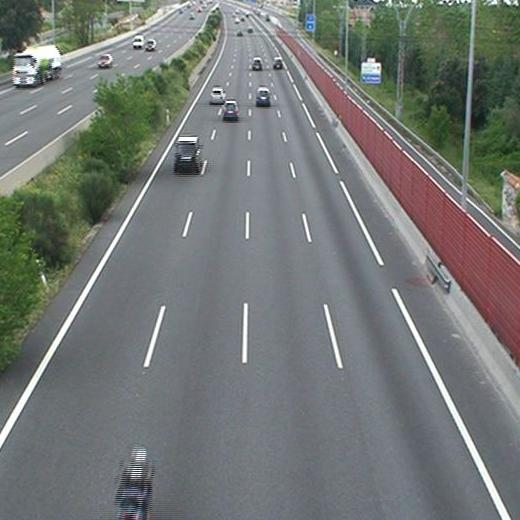car: (173, 136, 201, 169), (222, 102, 238, 118), (257, 87, 271, 105), (210, 88, 225, 104), (252, 58, 263, 69), (274, 57, 284, 69)
motorcycle: (113, 445, 156, 520)
